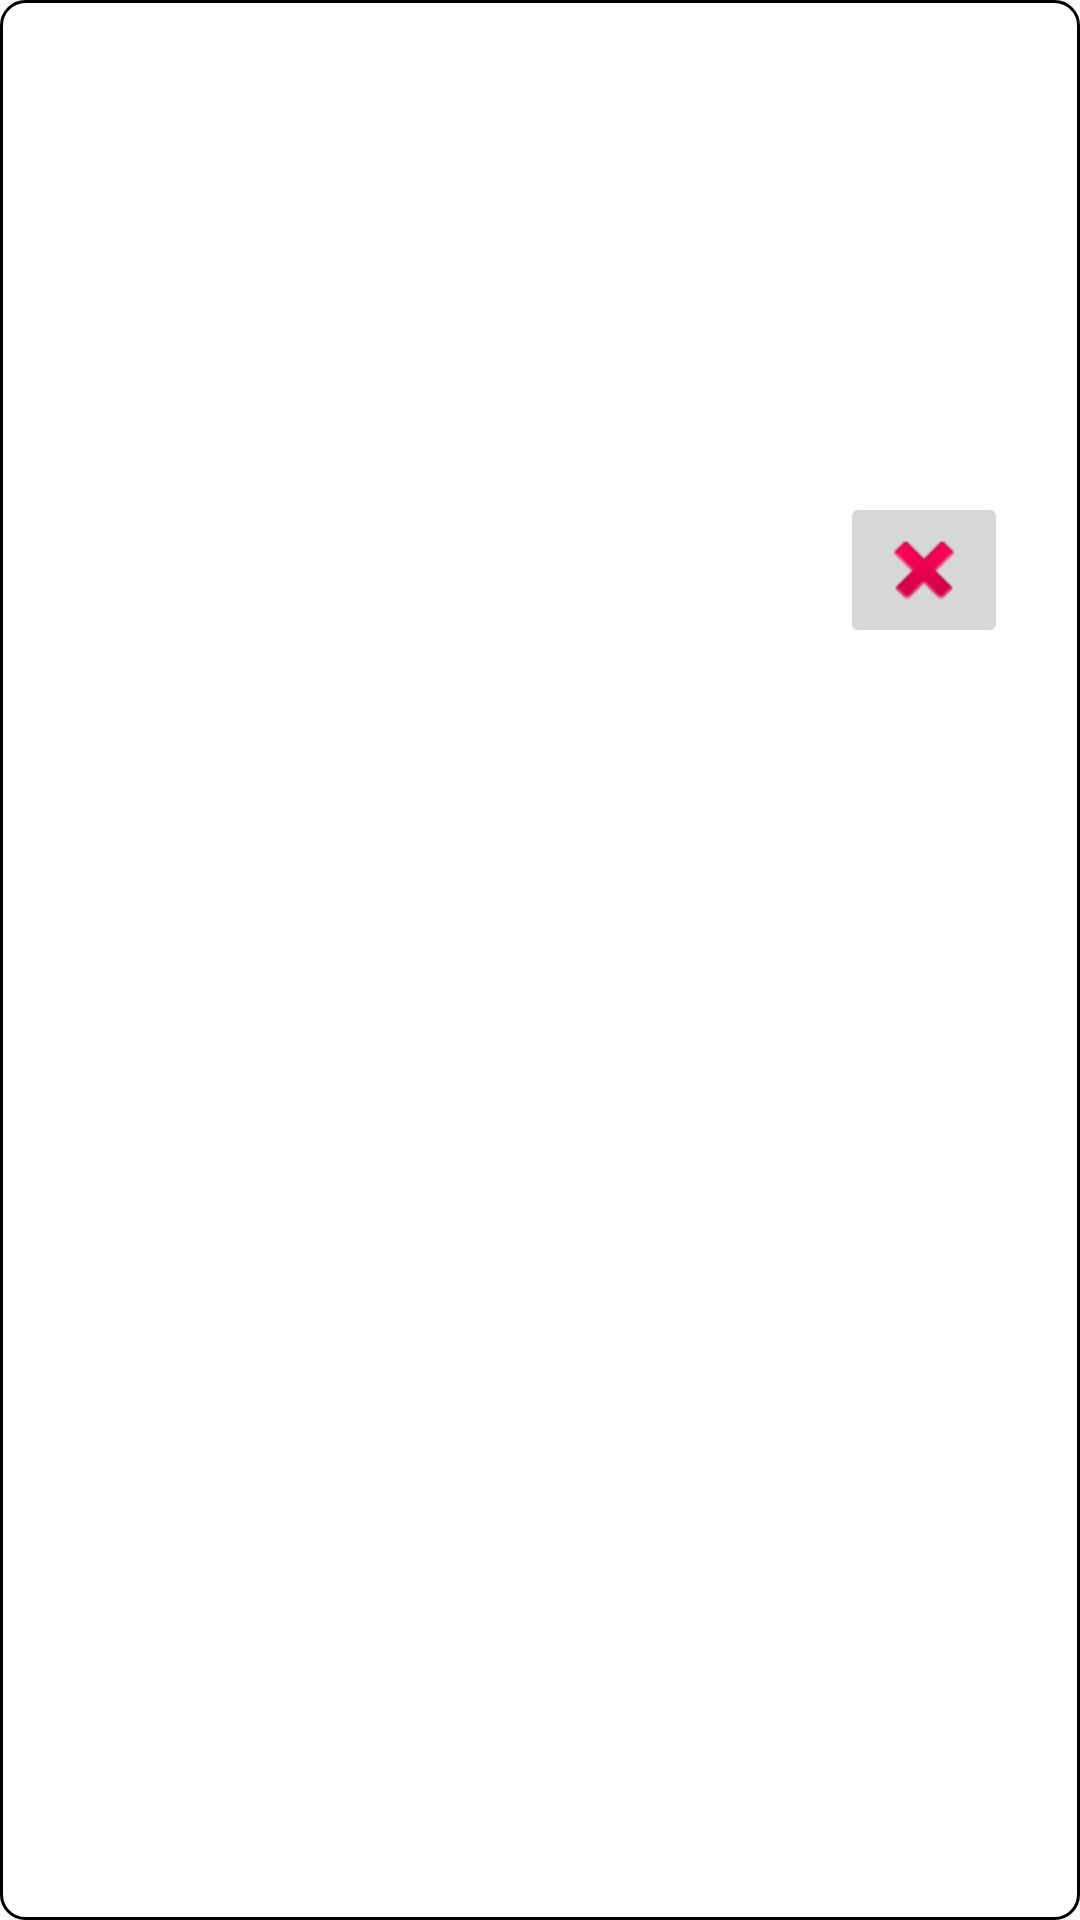

Named icons in this screenshot (1080*1920) and their bounding boxes, (x1, y1, x2, y2):
delete: (852, 510, 996, 630)
